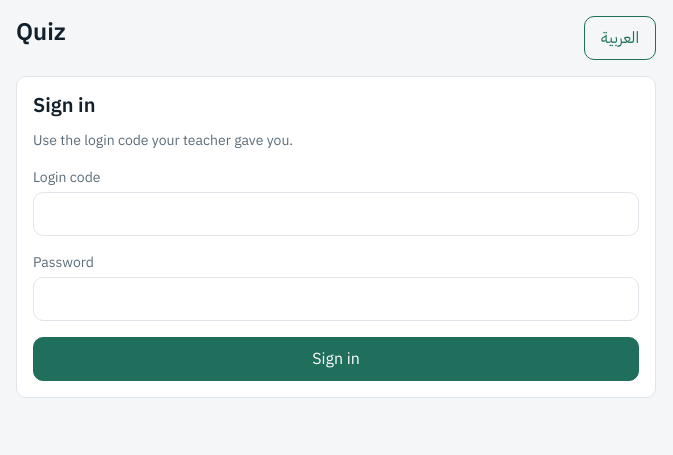
Test: signing in › says the connection dropped rather than blaming the password
Type "10A-001" into the field labelled "Login code" at [336, 214], box [33,192,639,236]
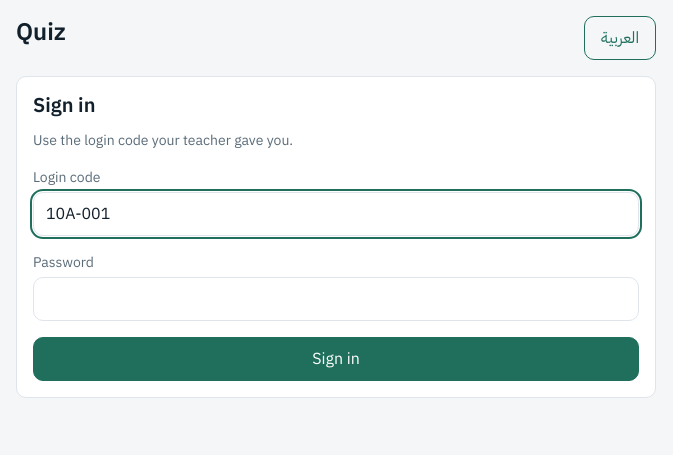
Type "pass1234" into the password field labelled "Password" at [336, 299], box [33,277,639,321]
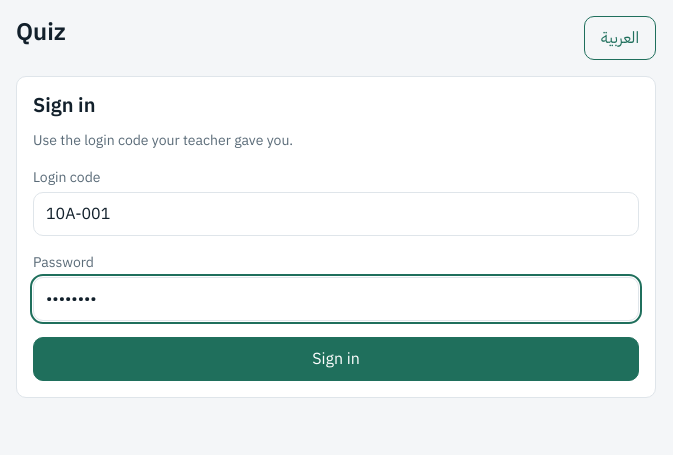
Click the button "Sign in" at [336, 359], box [33,337,639,381]
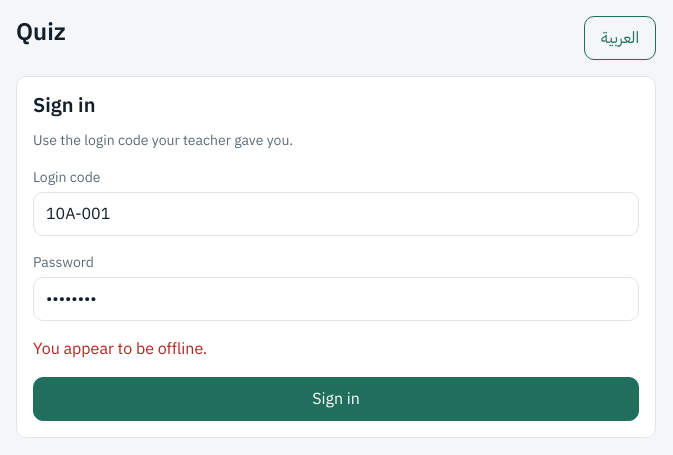
Expected: the message reads "You appear to be offline.", [33,337,207,361]
